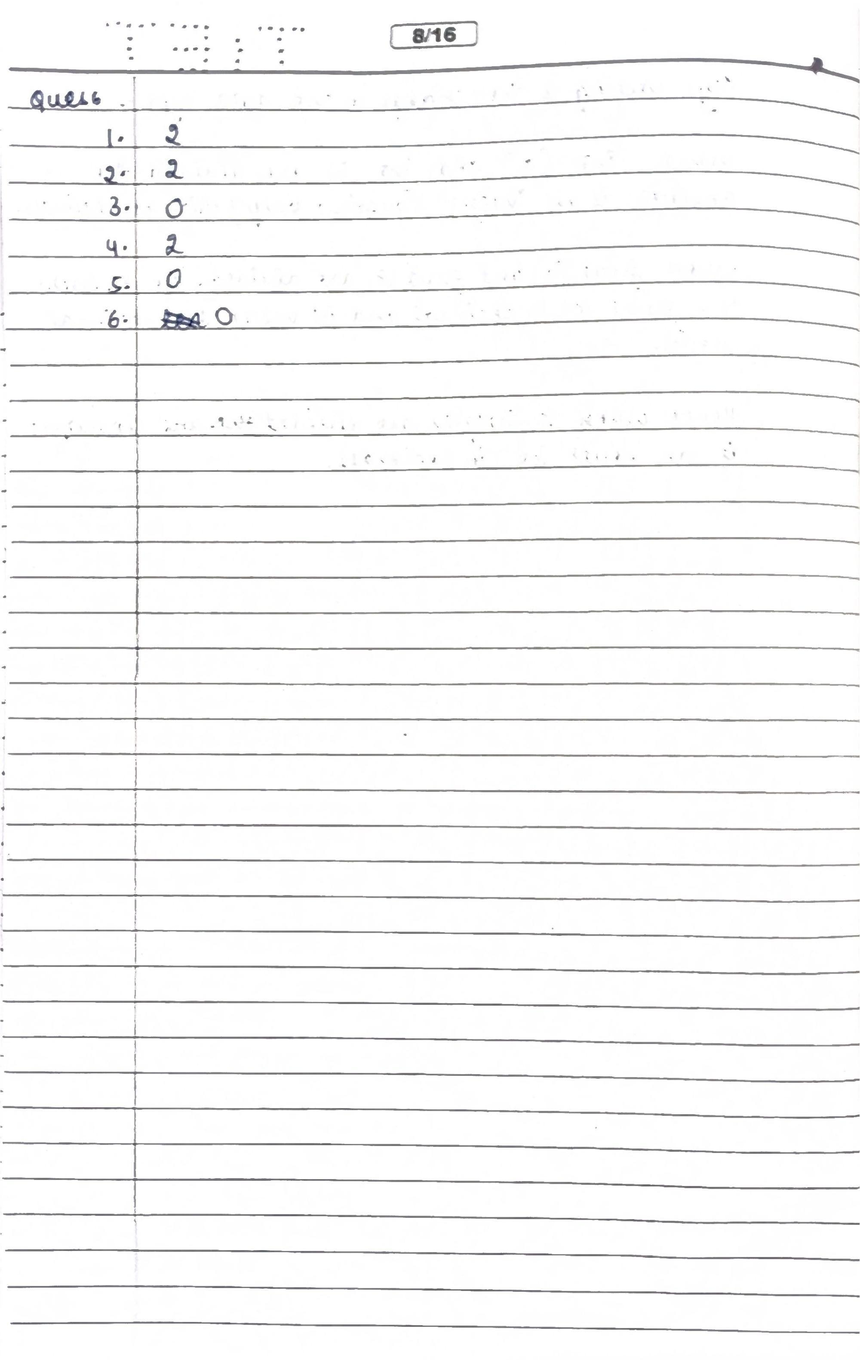cuttings: (153, 300, 210, 332)
